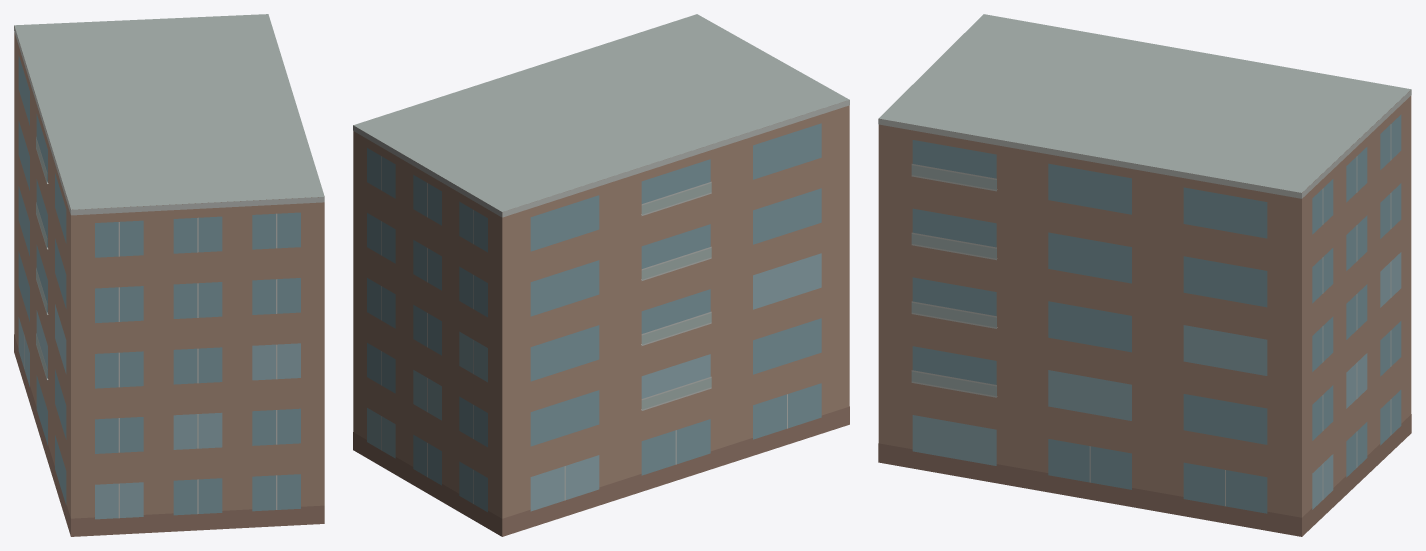
File: survey-upis-32757002.glb
3 views of the same model, side by side, from view 1: azimuth 30°, elevation 25°; view 2: azimuth 150°, elevation 25°; view 3: azimuth 270°, elevation 25° (orthographic). The views are drawn at different scales.
Parts seen in each view (by area): view 1: survey-upis-32757002.tmp; view 2: survey-upis-32757002.tmp; view 3: survey-upis-32757002.tmp.
Boxes of the visible parts, x1,y1,x2,y2 form: survey-upis-32757002.tmp: [14, 14, 324, 536]; survey-upis-32757002.tmp: [353, 14, 849, 536]; survey-upis-32757002.tmp: [878, 14, 1411, 536].
Bounding box in the file's own units: 15.85 × 14.2 × 19.95.
